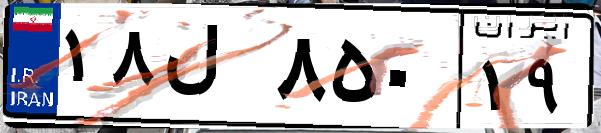0: (385, 28, 445, 110)
1: (57, 26, 110, 100), (475, 38, 525, 113)
5: (330, 28, 385, 110)
8: (270, 28, 330, 110), (110, 28, 158, 98)
9: (525, 38, 570, 115)
ل: (158, 20, 270, 120)
